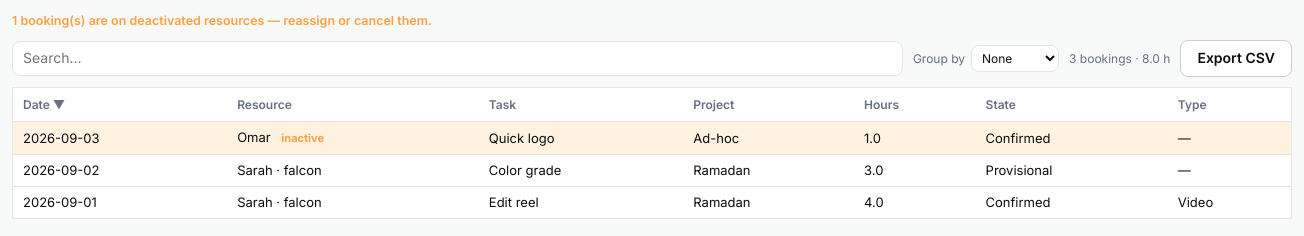
Test: BookingsTable (L3.1/L3.4) › global filter narrows rows
This screenshot has width=1304, height=236.
Type "Omar" into the field with test id "bookings-search". click: (457, 59)
box: [12,41,903,76]
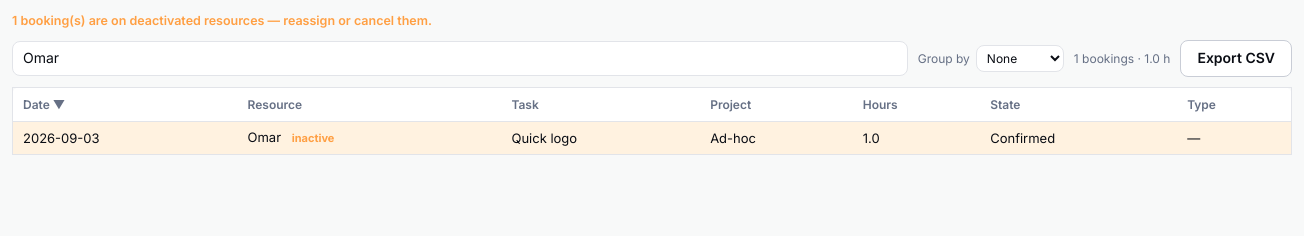
Expected: the row with test id "booking-row-b3" is shown, [12,122,1292,155]
Now the row with test id "booking-row-b1" is gone
